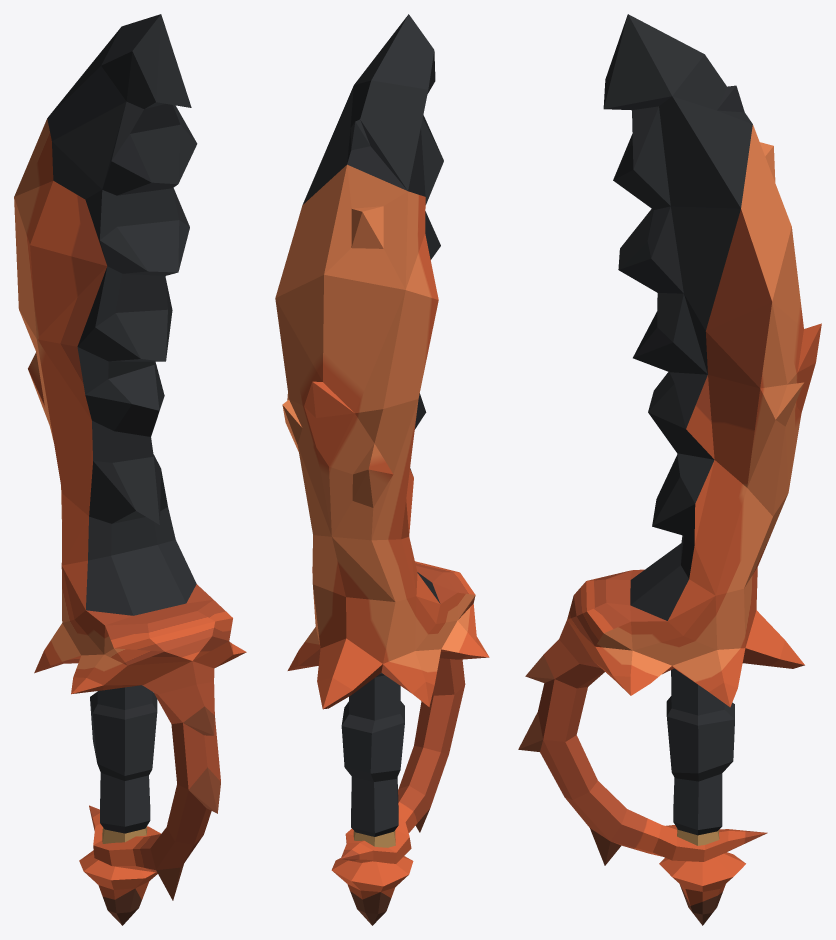
File: SM_Prop_Sword_04.fbx
3 views of the same model, side by side, from view 1: azimuth 30°, elevation 25°; view 2: azimuth 150°, elevation 25°; view 3: azimuth 270°, elevation 25° (orthographic). The views are drawn at different scales.
Parts seen in each view (by area): view 1: SM_Prop_Sword_04; view 2: SM_Prop_Sword_04; view 3: SM_Prop_Sword_04.
Boxes of the visible parts, <box> form: SM_Prop_Sword_04: <box>14,14,246,925</box>; SM_Prop_Sword_04: <box>275,14,489,925</box>; SM_Prop_Sword_04: <box>518,14,821,925</box>.
Size of the model in its own units: 23.38 by 120 by 36.16.
